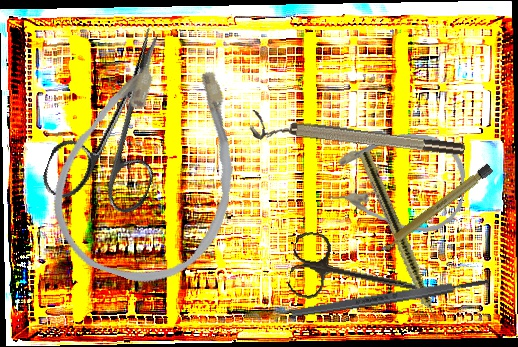Cannula: (35, 22, 272, 303), (326, 127, 468, 235)
Fixation Ring: (248, 110, 466, 168)
Handpiece: (356, 150, 449, 341)
Iris Scissors: (38, 11, 201, 225), (286, 229, 442, 321)
Scalpel Handle: (377, 162, 494, 255), (288, 275, 492, 320)
